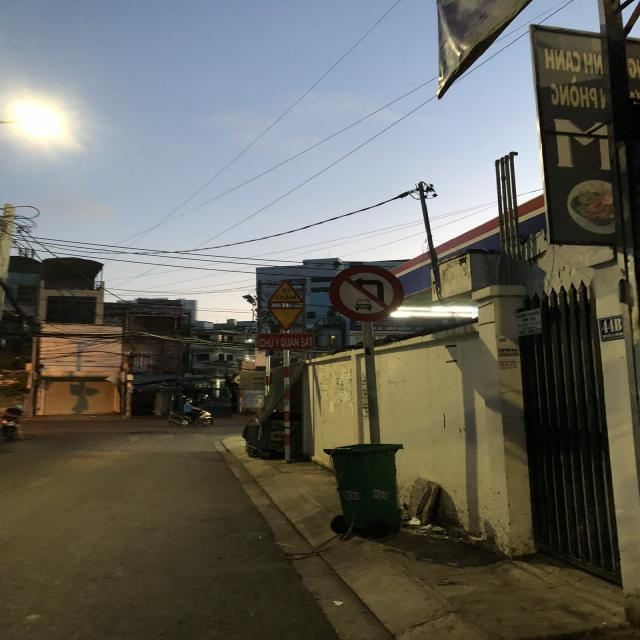Bien bao cam xe o to re trai: (323, 258, 402, 320)
Bien bao di cham: (264, 278, 306, 306)
Bien bao giao nhau voi duong uu tien: (267, 304, 306, 331)
